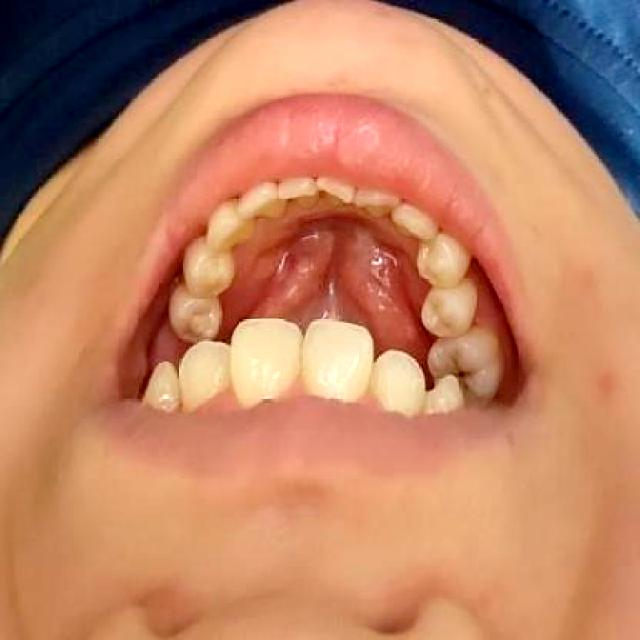Plaque: (435, 356, 481, 392)
